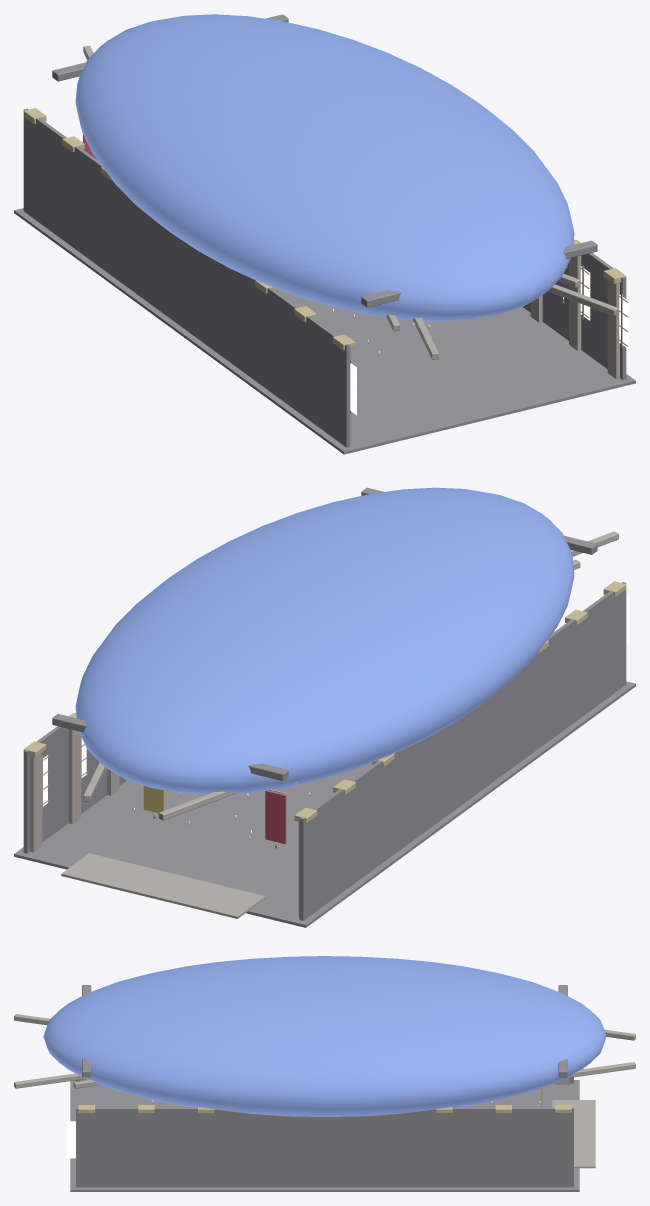
The model's file is hogwarts.glb.
3 views of the same model, one above another, from view 1: azimuth 30°, elevation 25°; view 2: azimuth 150°, elevation 25°; view 3: azimuth 270°, elevation 25° (orthographic). The views are drawn at different scales.
Visible parts, largest first — view 1: Enchanted sky dome, Great Hall side wall, Great Hall flagstone floor, Great Hall side wall.001, Carved wall pier, Carved wall pier.017, Vault crossbeam.008, Gothic arch rib.017; view 2: Enchanted sky dome, Great Hall side wall, Great Hall flagstone floor, Great Hall raised dais, Great Hall side wall.001, Carved wall pier.010, Carved wall pier.011, Four Houses banner, Vault crossbeam, Gothic arch rib; view 3: Enchanted sky dome, Great Hall side wall.001, Great Hall flagstone floor, Great Hall raised dais, Gothic arch rib.017, Gothic arch rib.001, Tall lancet window.017.
Boxes of the visible parts, box(x1,y1,x2,y2) form: Enchanted sky dome: box(75, 14, 574, 321); Great Hall side wall: box(23, 108, 350, 447); Great Hall flagstone floor: box(14, 208, 635, 454); Great Hall side wall.001: box(522, 239, 626, 380); Carved wall pier: box(607, 279, 619, 378); Carved wall pier.017: box(569, 255, 581, 350); Vault crossbeam.008: box(361, 240, 597, 307); Gothic arch rib.017: box(548, 284, 618, 315); Enchanted sky dome: box(75, 487, 574, 794); Great Hall side wall: box(299, 582, 626, 920); Great Hall flagstone floor: box(14, 681, 635, 927); Great Hall raised dais: box(61, 853, 265, 918); Great Hall side wall.001: box(23, 713, 127, 853); Carved wall pier.010: box(30, 753, 42, 852); Carved wall pier.011: box(68, 729, 80, 824); Four Houses banner: box(265, 790, 286, 844); Vault crossbeam: box(52, 714, 288, 780); Gothic arch rib: box(158, 791, 236, 820); Enchanted sky dome: box(43, 956, 606, 1116); Great Hall side wall.001: box(76, 1107, 573, 1187); Great Hall flagstone floor: box(70, 1080, 579, 1191); Great Hall raised dais: box(552, 1100, 595, 1168); Gothic arch rib.017: box(14, 1073, 84, 1088); Gothic arch rib.001: box(566, 1062, 635, 1078); Tall lancet window.017: box(66, 1121, 75, 1158).
Size of the model in its own units: 56 by 30.45 by 115.
